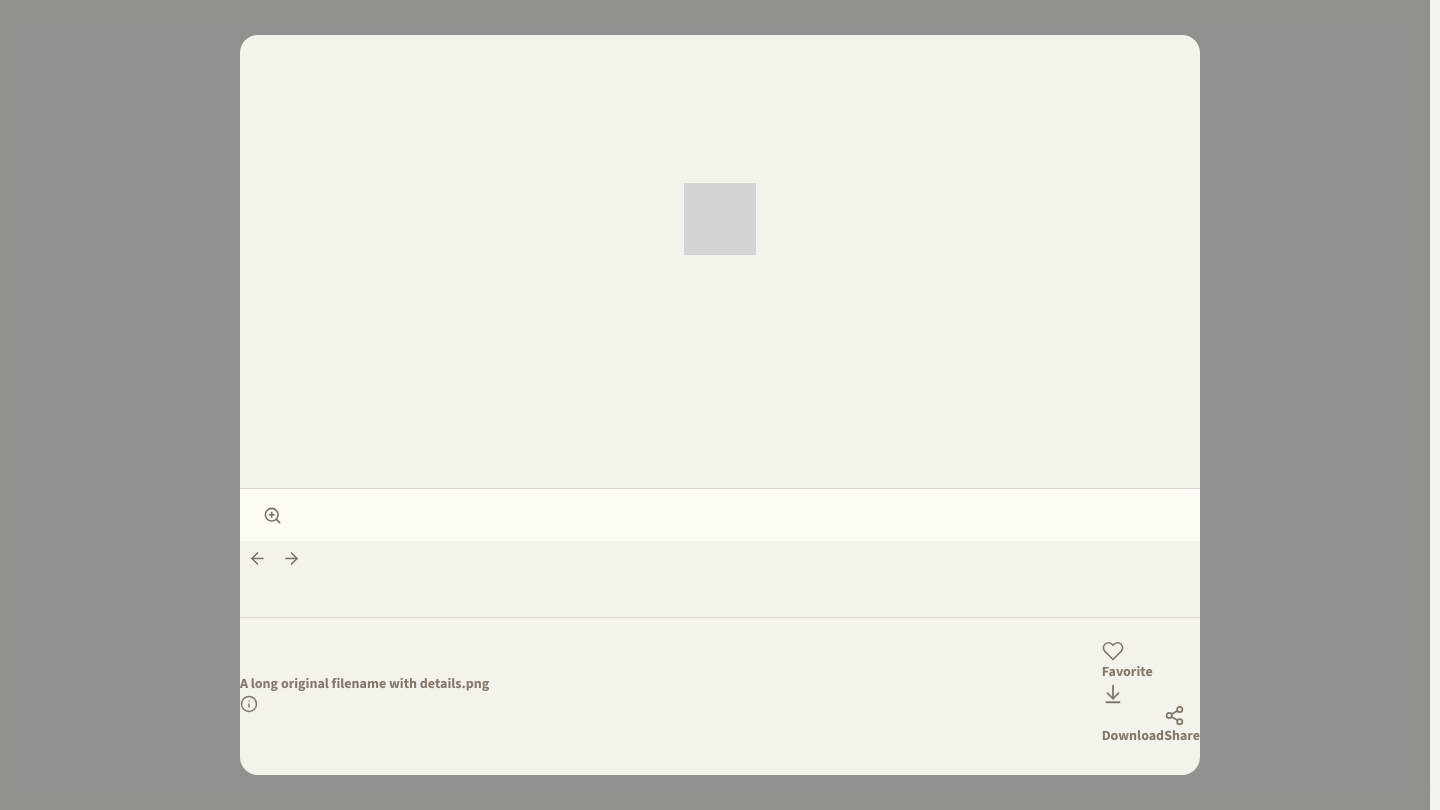
Test: uses byte units instead of rounding small files down to zero MB
(page scrolled)
Click the button "A long original filename with details.png" at coordinates (365, 694), box [240, 674, 489, 713]
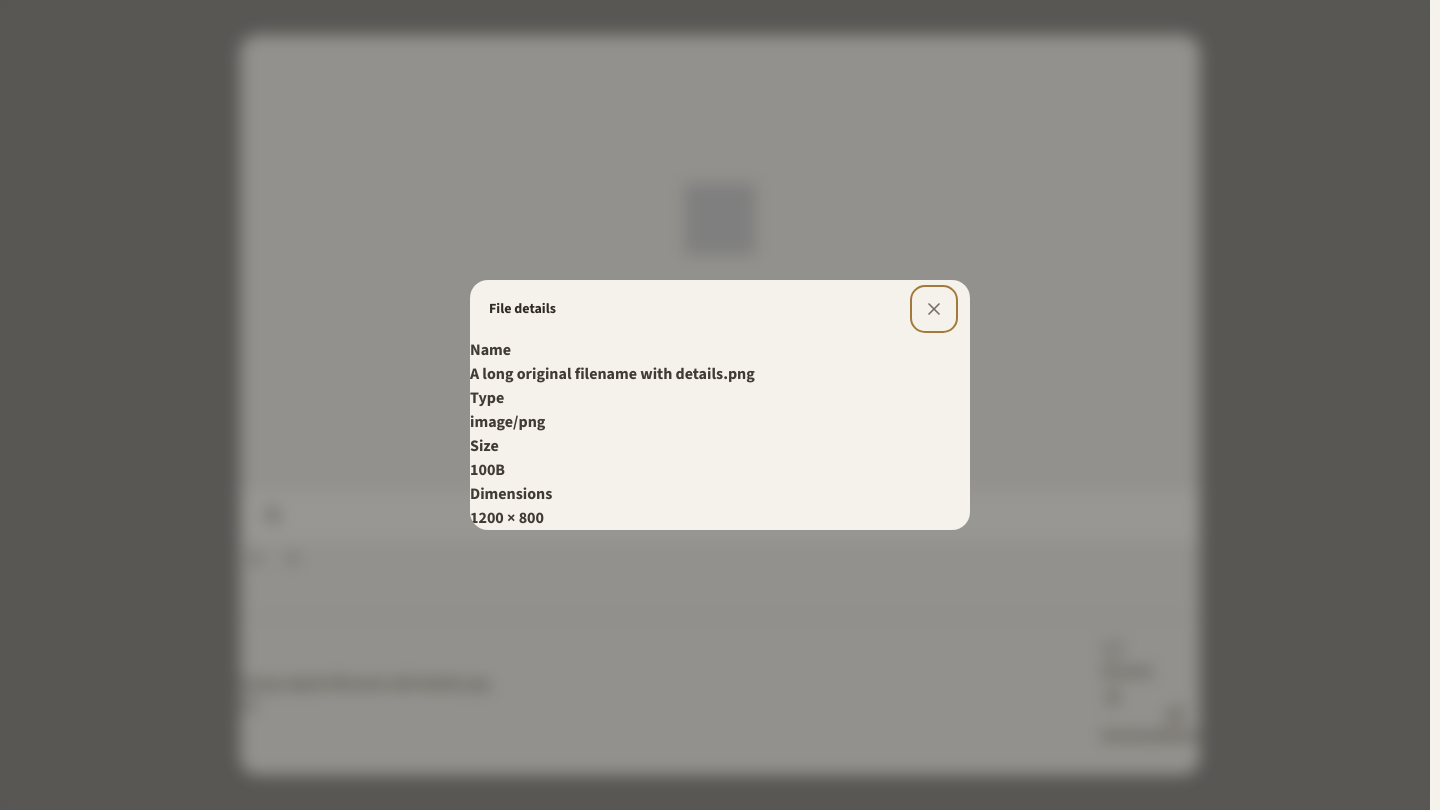
Expected: the text "100B" is shown, [470, 459, 505, 481]
